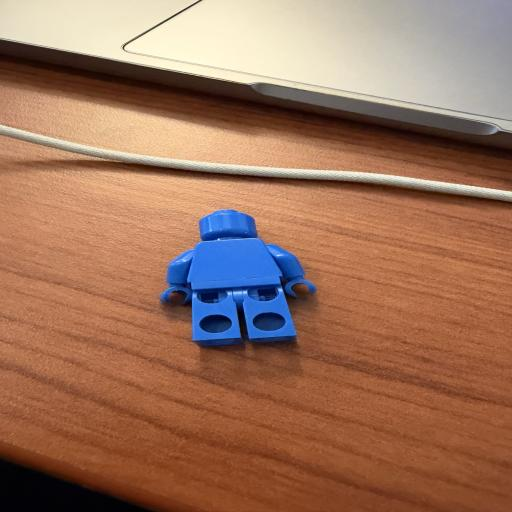blue_minifig: (159, 209, 317, 348)
